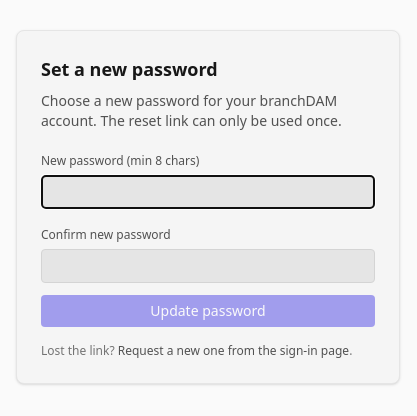
PasswordResetPage › renders the error message from the server on failure
In the password field labelled "New password (min 8 chars)": [208, 192] box [41,175,375,209], type "new-secret-1"
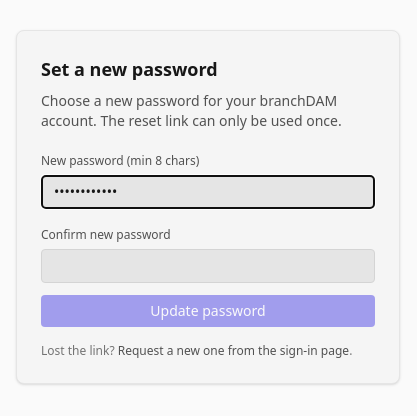
In the password field labelled "Confirm new password": [208, 266] box [41,249,375,283], type "new-secret-1"
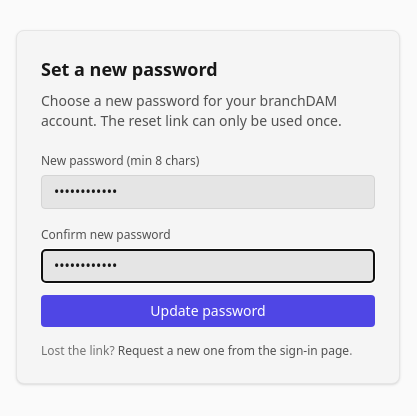
Click the button "Update password": [208, 311] box [41,295,375,327]
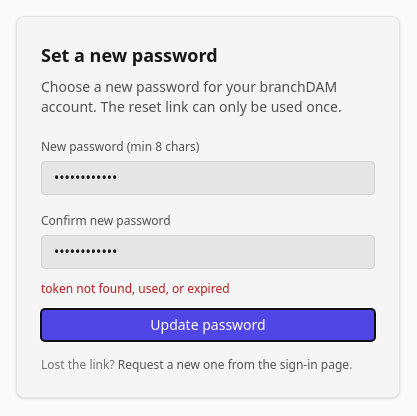
Check: the text with test id "confirm-error" reads "token not found, used, or expired", box [41,280,230,297]
